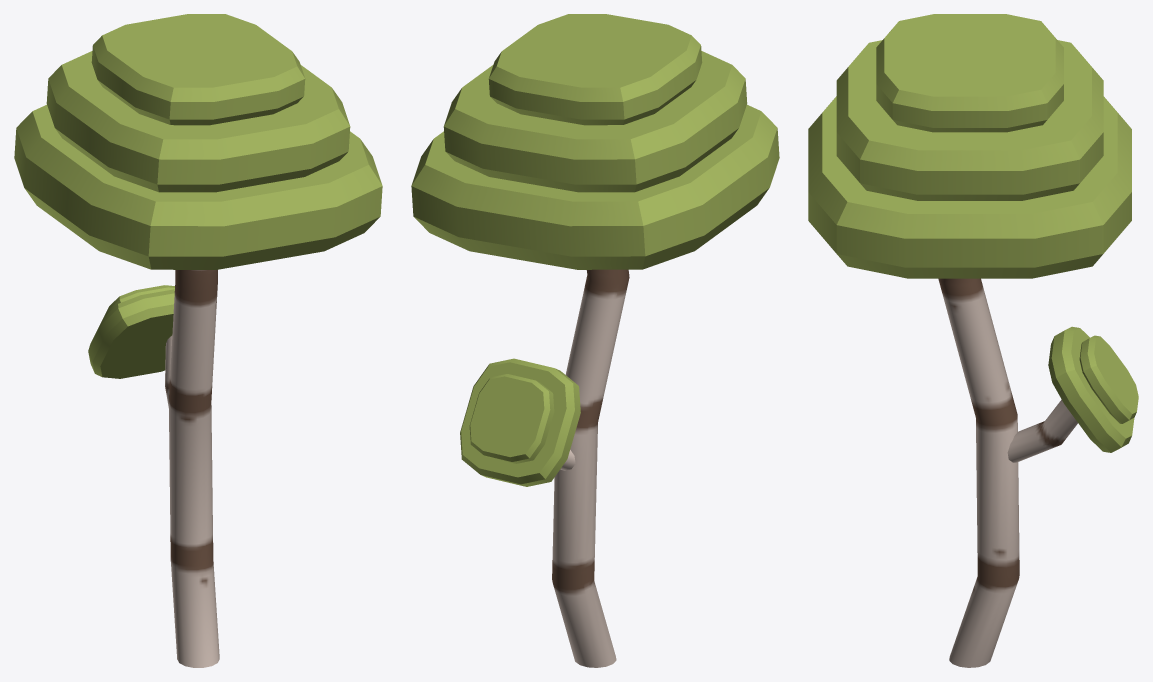
The model's file is FBX_TreeA_01.fbx.
3 renders of one model, left to right at view 1: azimuth 30°, elevation 25°; view 2: azimuth 150°, elevation 25°; view 3: azimuth 270°, elevation 25°, orthographic.
Visible parts, largest first — view 1: pCube55; view 2: pCube55; view 3: pCube55.
Boxes of the visible parts, x1=… form: pCube55: x1=14, y1=14, x2=382, y2=667; pCube55: x1=411, y1=14, x2=779, y2=667; pCube55: x1=808, y1=14, x2=1138, y2=667.
Size of the model in its own units: 65.93 by 136 by 67.01.
